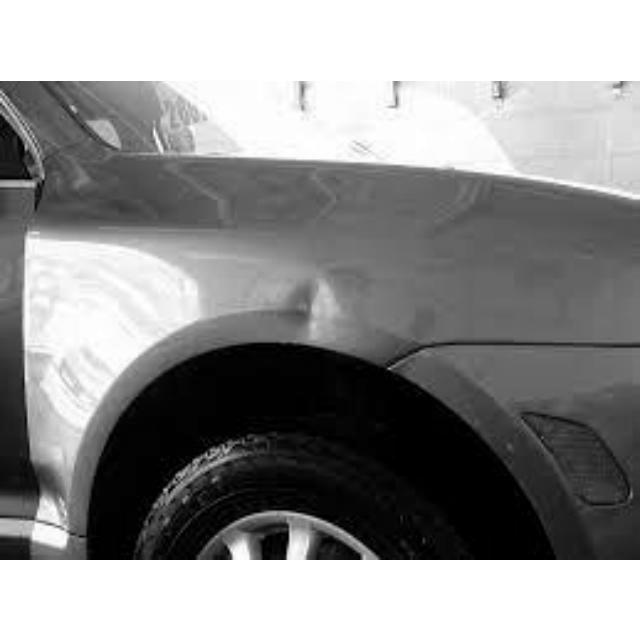fender-dent: (28, 167, 391, 557)
